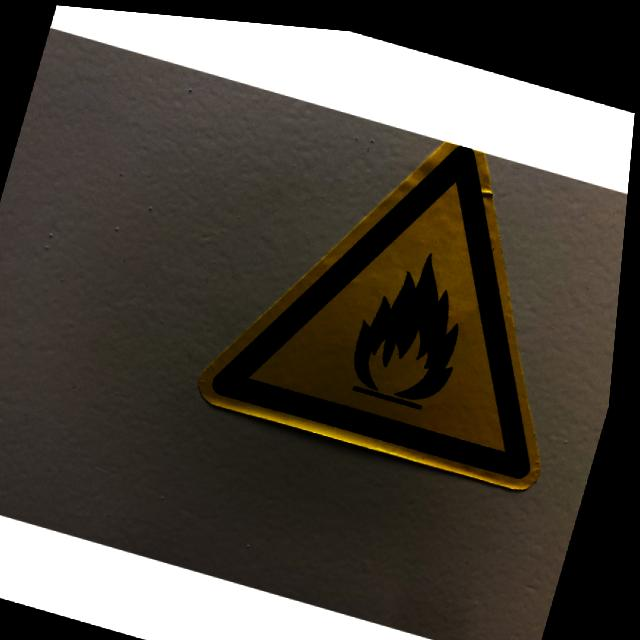fire hazard: (193, 84, 629, 491)
